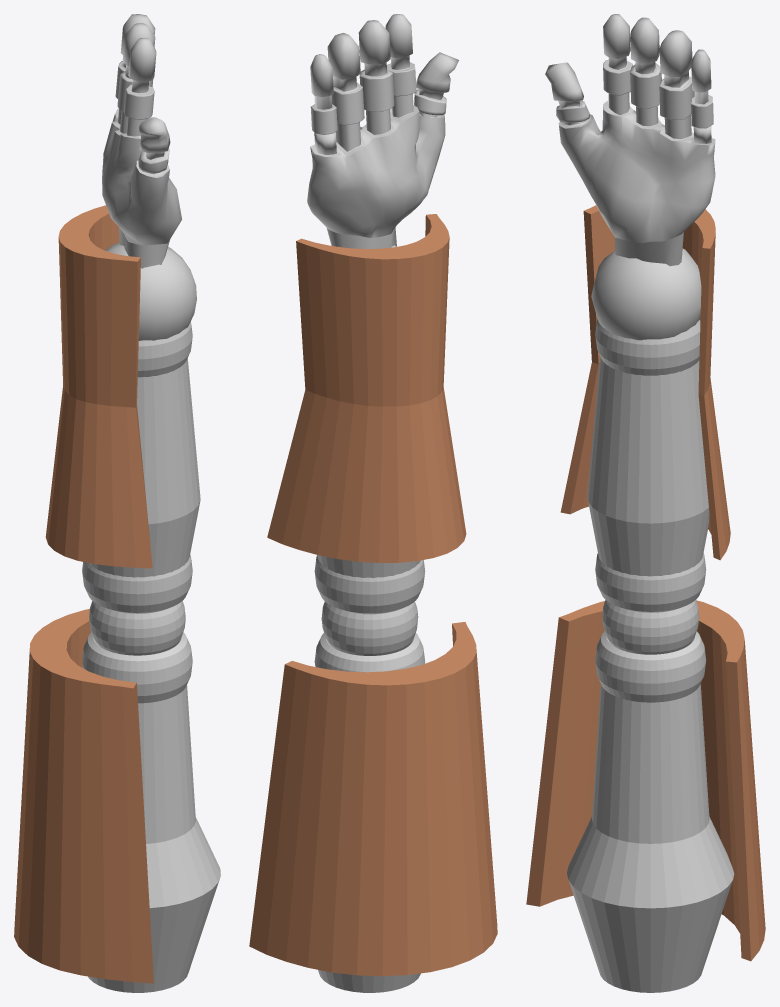
Rendered from BaseArm.fbx.
3 renders of one model, left to right at view 1: azimuth 30°, elevation 25°; view 2: azimuth 150°, elevation 25°; view 3: azimuth 270°, elevation 25°, orthographic.
Visible parts, largest first — view 1: Sphere, Cylinder.004; view 2: Cylinder.004, Sphere; view 3: Cylinder.004, Sphere.
Part boxes in pixels (bbox=[...]): Sphere: bbox=[14, 601, 220, 992]; Cylinder.004: bbox=[45, 14, 200, 613]; Cylinder.004: bbox=[267, 14, 466, 614]; Sphere: bbox=[249, 601, 497, 992]; Cylinder.004: bbox=[545, 14, 730, 612]; Sphere: bbox=[526, 600, 765, 992].
Size of the model in its own units: 179 by 879 by 200.
